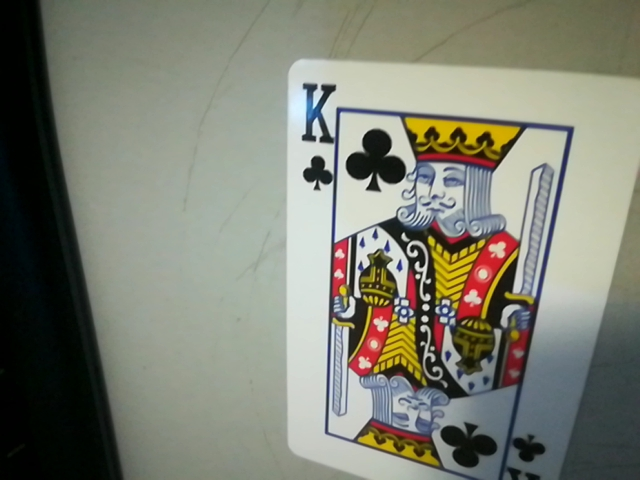mh k: (289, 74, 340, 195)
